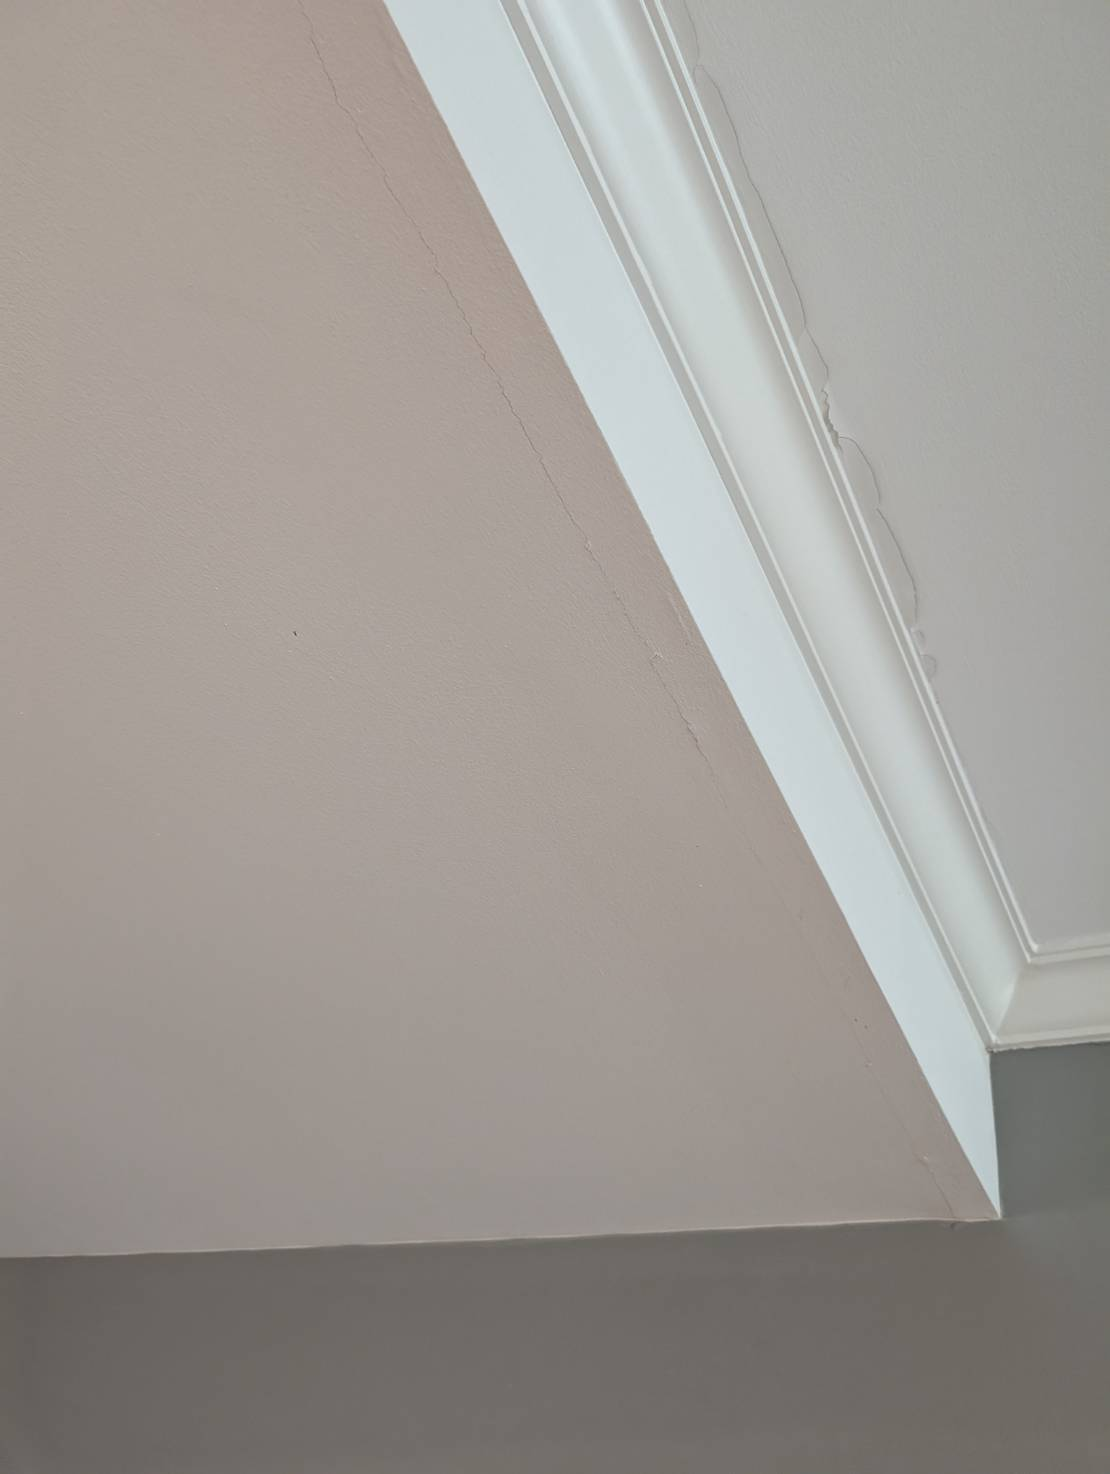Low: (288, 19, 759, 817)
